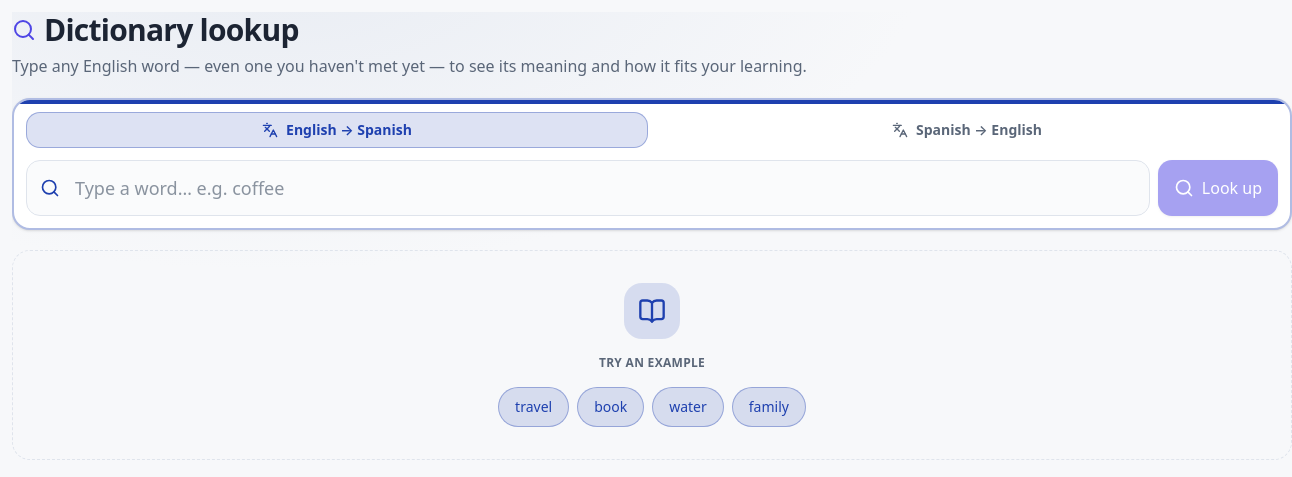
Test: DictionaryLookup (V3.30) › el botón de borrar aparece con texto, vacía el campo y no consulta (V3.75.8)
In the field named "Search the dictionary": (588, 188) x1=26 y1=160 x2=1150 y2=216, type "coffee"
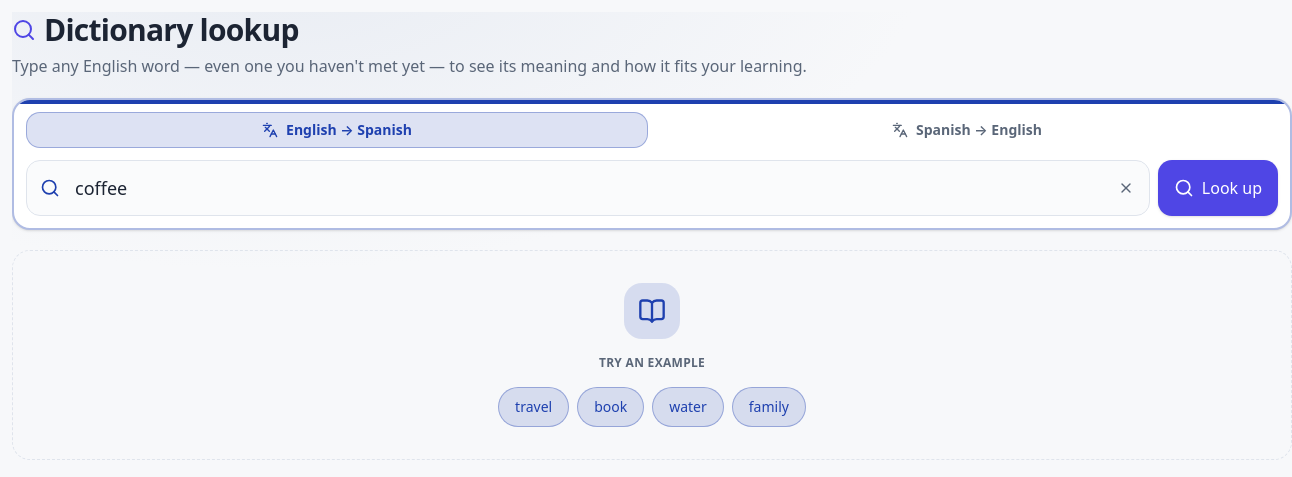
Click the button named "Clear the search": (1126, 188) x1=1110 y1=172 x2=1142 y2=204
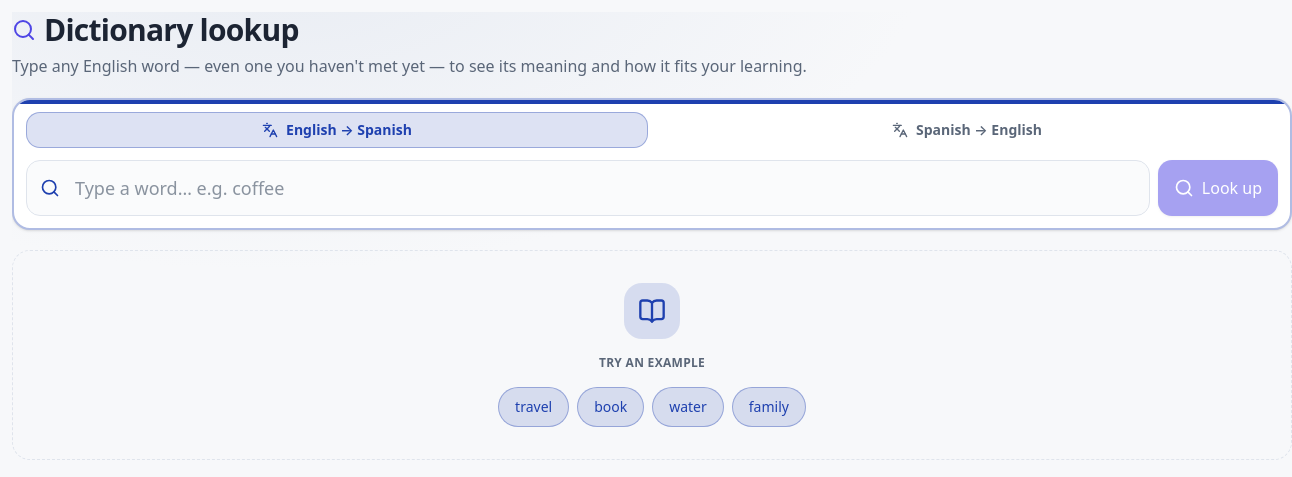
Expected: the field named "Search the dictionary" is empty, x1=26 y1=160 x2=1150 y2=216
